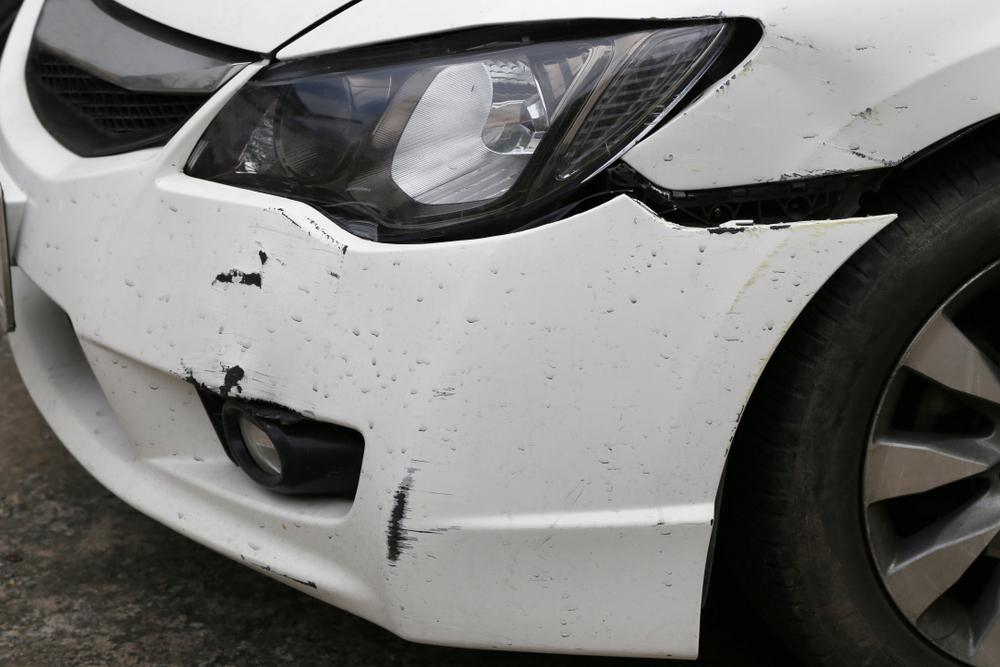scratch: (172, 206, 353, 405), (755, 30, 919, 183), (708, 221, 860, 326), (383, 451, 464, 574), (238, 552, 319, 591)
